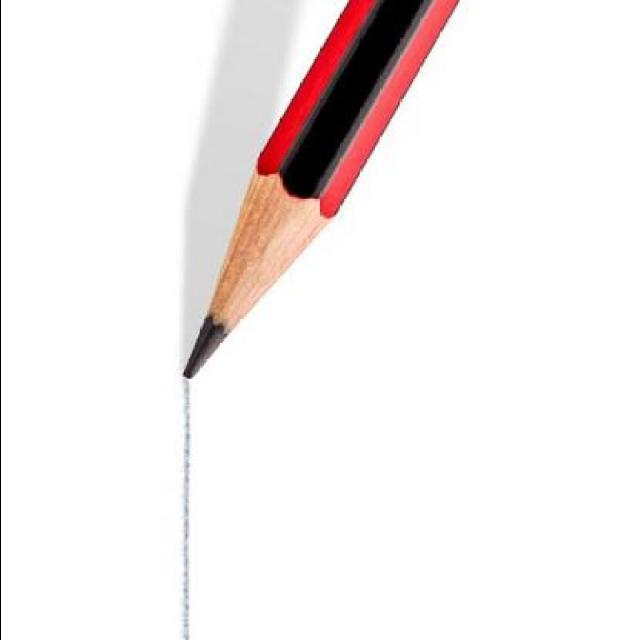Pencil: (172, 93, 370, 385)
